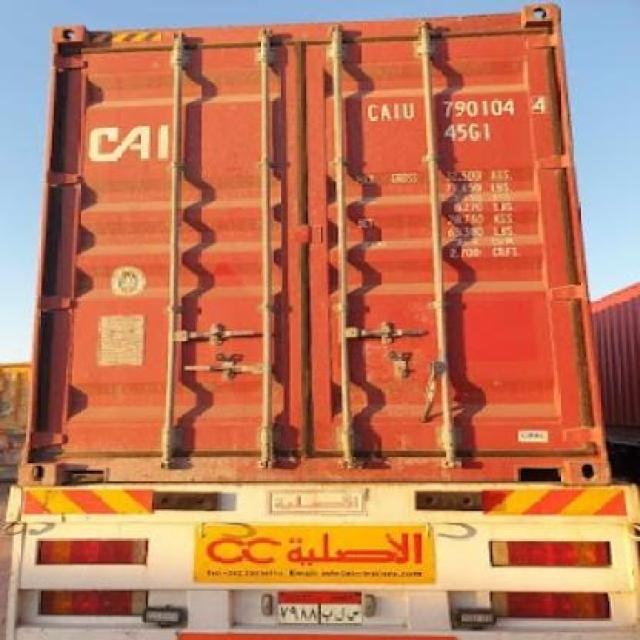ISO: (445, 122, 493, 142)
container_number: (373, 95, 541, 118)
